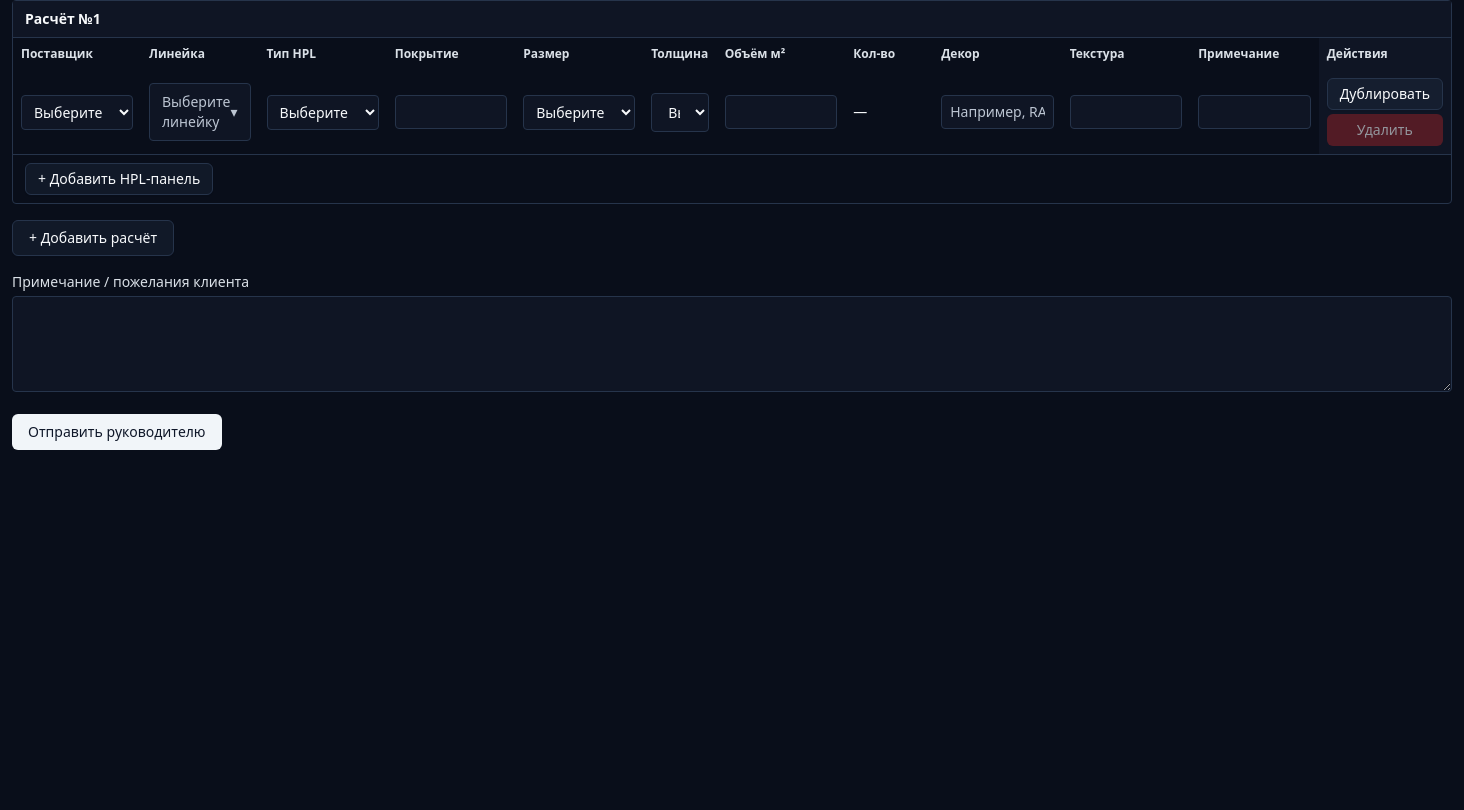
Test: CalculationRequestForm › lets a manager add a second calculation and multiple HPL rows
Step 1. Click the button "+ Добавить HPL-панель" → (119, 179), box [25,163,213,195]
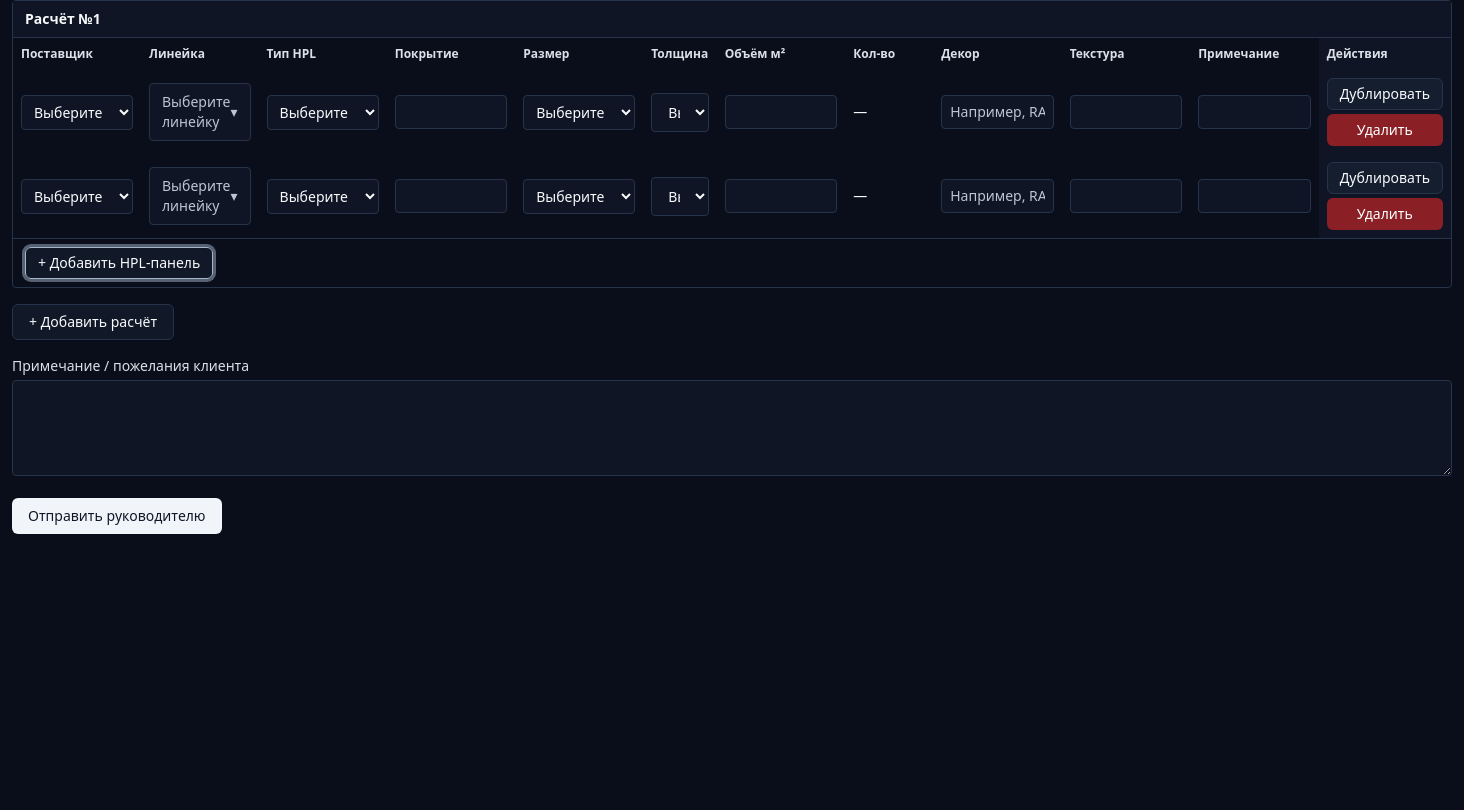
Check: the number of dropdowns named "Тип HPL, строка" is 2, box [267,94,379,130]; [267,178,379,214]
Step 2. Click the button "+ Добавить расчёт" → (93, 322), box [12,304,174,340]
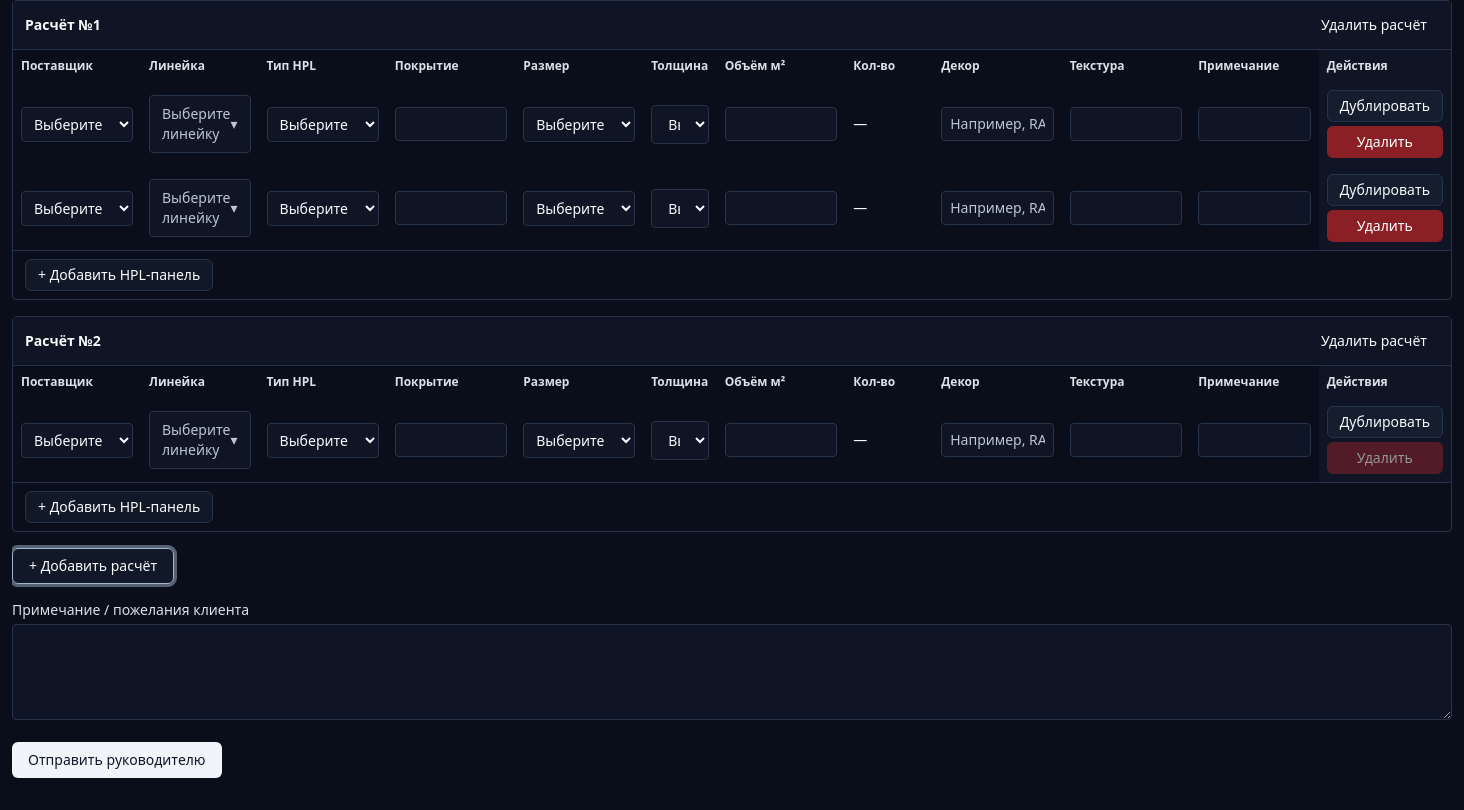
Check: the heading "Расчёт №2" is shown, box [25,331,101,351]
